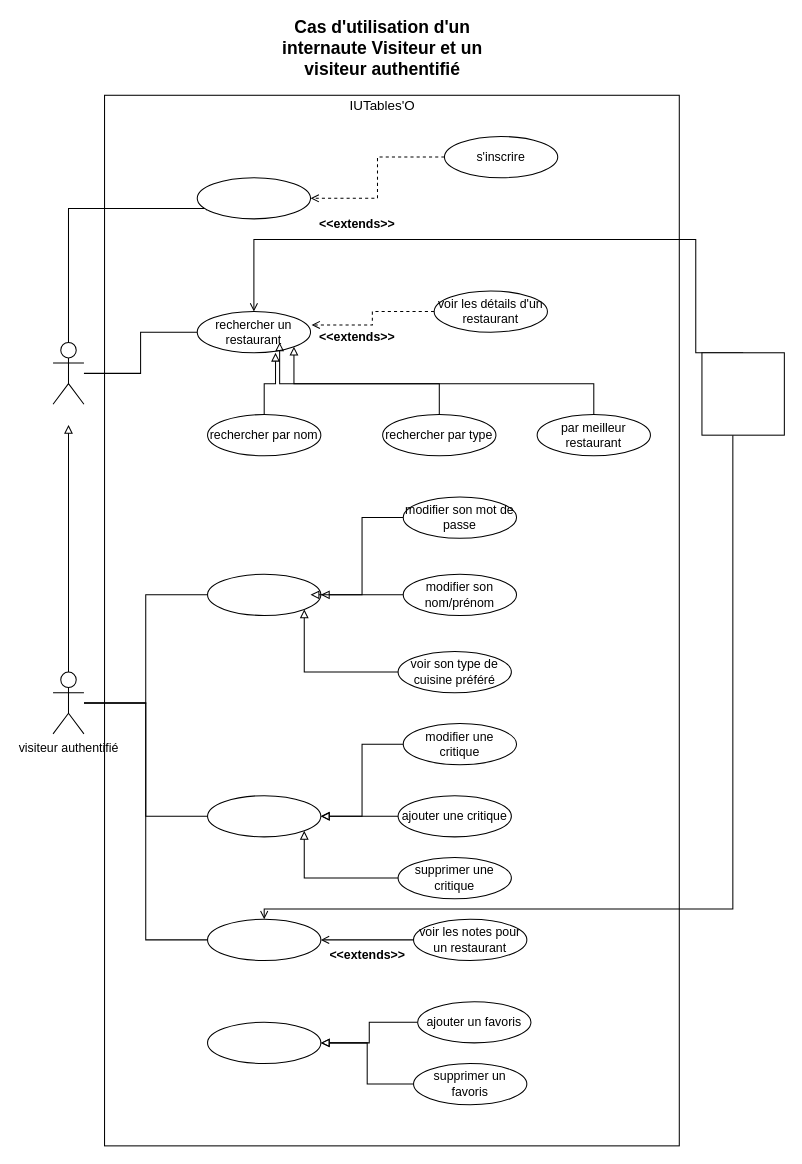
The diagram is 802 pixels wide and 1164 high, and some of its shapes have lost their labels. The box of each missing label's shape, as (x1, y1, x2, y2) in pixels:
Base de données: (701, 352, 784, 435)
gérer ses critiques: (207, 795, 321, 837)
gérer ses favoris: (207, 1021, 321, 1063)
gérer son profil: (207, 573, 321, 615)
internaute visiteur: (52, 341, 84, 404)
se connecter: (196, 177, 311, 219)
voir les critiques pour un restaurant: (207, 918, 321, 960)
